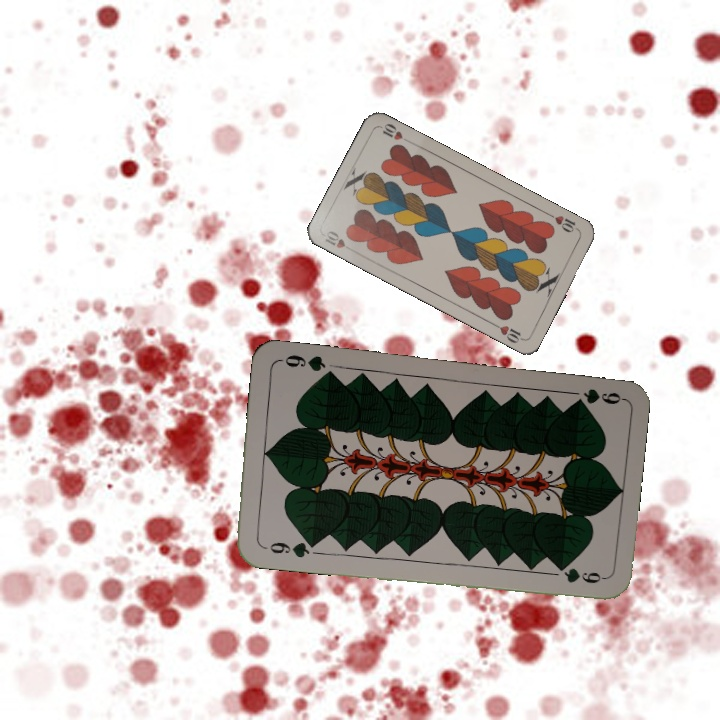G9: (266, 537, 318, 561), (579, 384, 624, 407)
H10: (321, 227, 358, 255), (544, 209, 582, 235)
